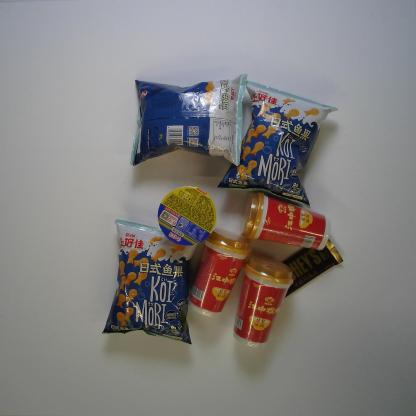Chocolate: (254, 235, 348, 315)
Instant Drink: (186, 226, 256, 320), (231, 250, 296, 350), (237, 189, 333, 250)
Instant Noodles: (156, 184, 218, 248)
Puffed Food: (215, 77, 339, 207), (101, 218, 199, 347), (130, 71, 249, 168)
